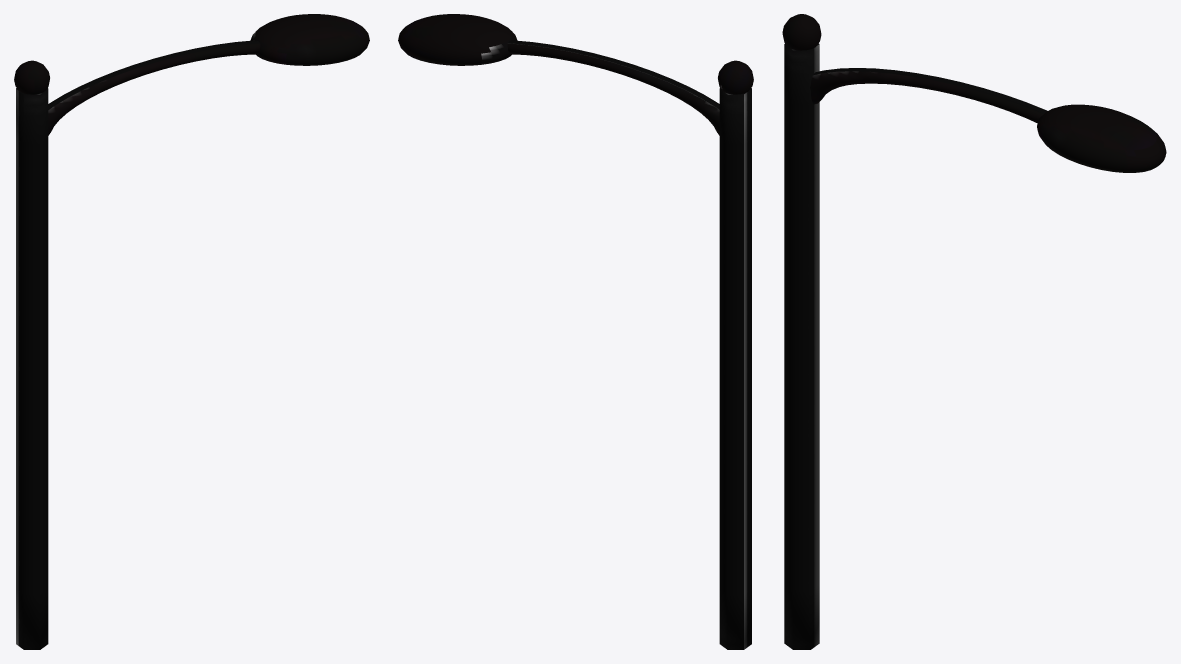
File: Farola.obj
3 renders of one model, left to right at view 1: azimuth 30°, elevation 25°; view 2: azimuth 150°, elevation 25°; view 3: azimuth 330°, elevation 25°, orthographic. The views are drawn at different scales.
Parts seen in each view (by area): view 1: Pole_Cylinder, LightPart_Sphere, Torus_001, Sphere_Sphere_001; view 2: Pole_Cylinder, LightPart_Sphere, Torus_001, Sphere_Sphere_001; view 3: Pole_Cylinder, LightPart_Sphere, Torus_001, Sphere_Sphere_001.
Boxes of the visible parts, bbox=[...] form: Pole_Cylinder: bbox=[16, 88, 48, 649]; LightPart_Sphere: bbox=[250, 14, 369, 65]; Torus_001: bbox=[48, 40, 260, 135]; Sphere_Sphere_001: bbox=[14, 60, 49, 94]; Pole_Cylinder: bbox=[719, 88, 751, 649]; LightPart_Sphere: bbox=[398, 14, 517, 65]; Torus_001: bbox=[507, 40, 719, 135]; Sphere_Sphere_001: bbox=[718, 60, 753, 94]; Pole_Cylinder: bbox=[784, 43, 819, 649]; LightPart_Sphere: bbox=[1037, 104, 1166, 172]; Torus_001: bbox=[810, 68, 1047, 123]; Sphere_Sphere_001: bbox=[782, 14, 821, 50].
Size of the model in its own units: 3.6 by 5.72 by 0.7874.
